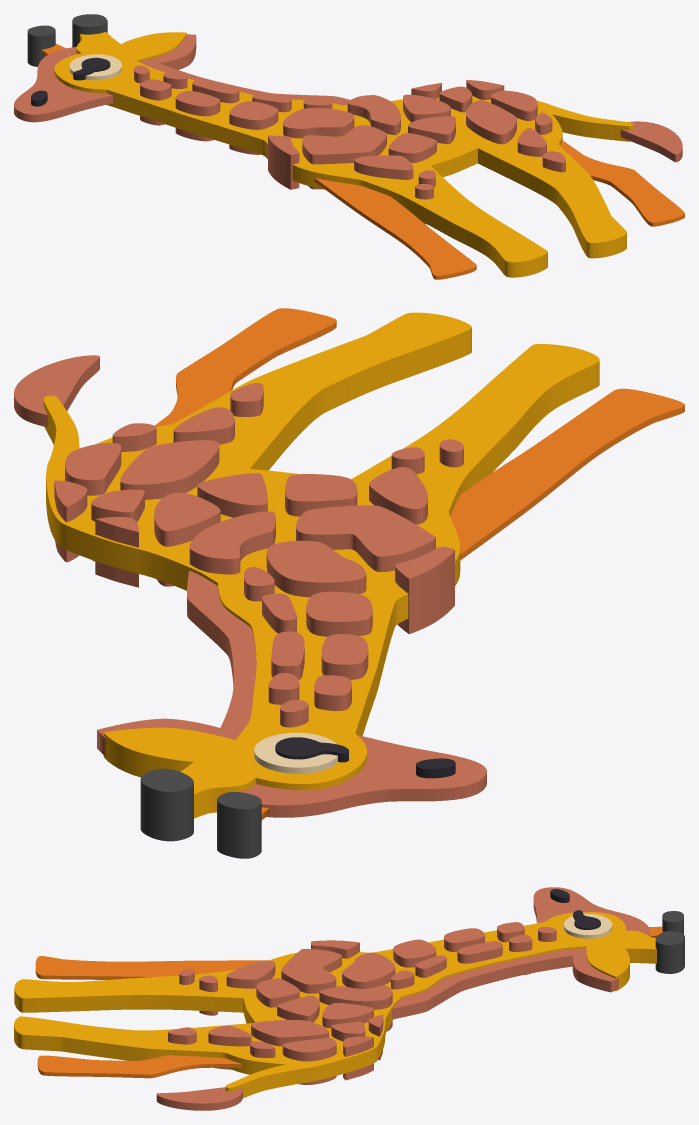
Rendered from emoji_u1f992.glb.
The picture shows the model from 3 angles, top to bottom: view 1: azimuth 30°, elevation 25°; view 2: azimuth 150°, elevation 25°; view 3: azimuth 270°, elevation 25°; orthographic projection. The views are drawn at different scales.
Parts seen in each view (by area): view 1: emoji_u1f992; view 2: emoji_u1f992; view 3: emoji_u1f992.
Part boxes in pixels (x1,y1,x2,y2): emoji_u1f992: (14, 14, 684, 279); emoji_u1f992: (14, 308, 684, 858); emoji_u1f992: (14, 887, 684, 1110).
Size of the model in its own units: 0.0256 by 0.0018 by 0.0336.
